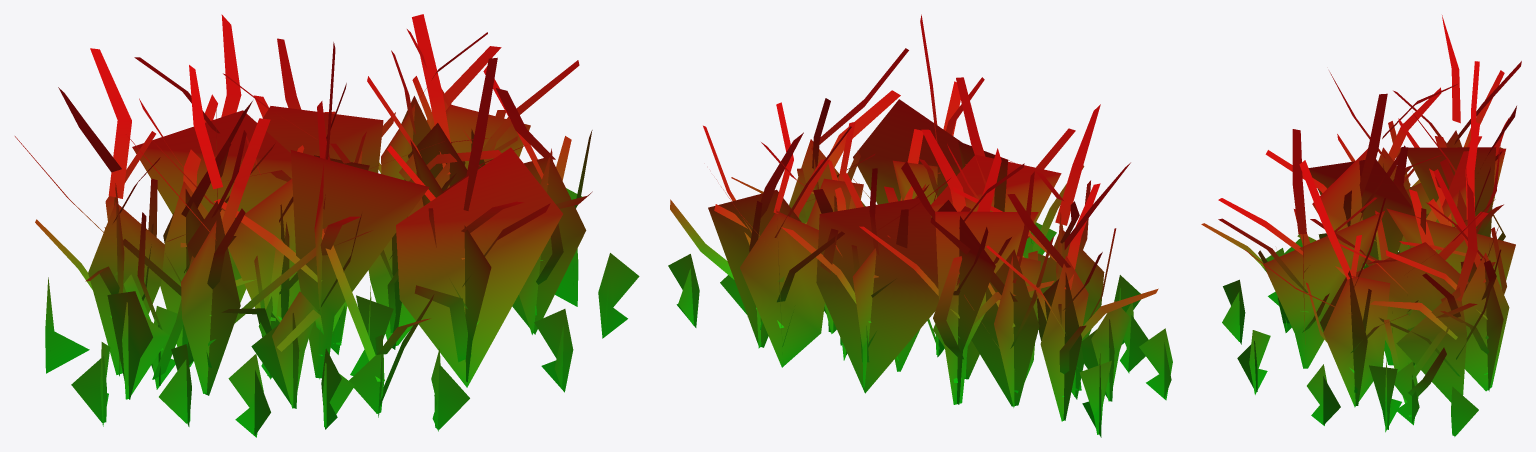
File: Var3_LOD2.fbx
The picture shows the model from 3 angles, left to right: view 1: azimuth 30°, elevation 25°; view 2: azimuth 150°, elevation 25°; view 3: azimuth 270°, elevation 25°; orthographic projection. The views are drawn at different scales.
Visible parts, largest first — view 1: _5y2m_Var3_LOD2; view 2: _5y2m_Var3_LOD2; view 3: _5y2m_Var3_LOD2.
Boxes of the visible parts, box(x1,y1,x2,y2) form: _5y2m_Var3_LOD2: box(15, 14, 639, 437); _5y2m_Var3_LOD2: box(668, 14, 1172, 437); _5y2m_Var3_LOD2: box(1201, 15, 1521, 436).
Bounding box in the file's own units: 43.71 × 25.21 × 28.69.
